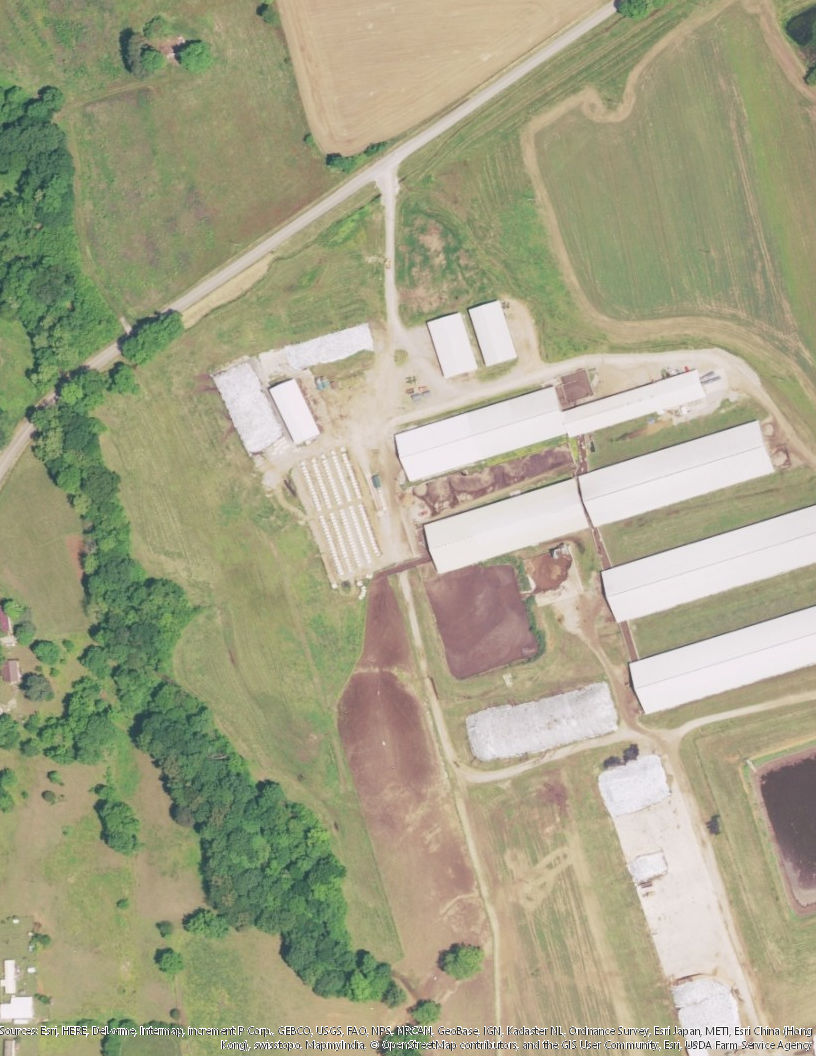cafo: (596, 493, 816, 631), (575, 410, 778, 533), (626, 594, 816, 722), (391, 376, 574, 485), (420, 470, 596, 577), (556, 368, 719, 448), (417, 307, 484, 378), (263, 373, 327, 447), (466, 297, 528, 370)
